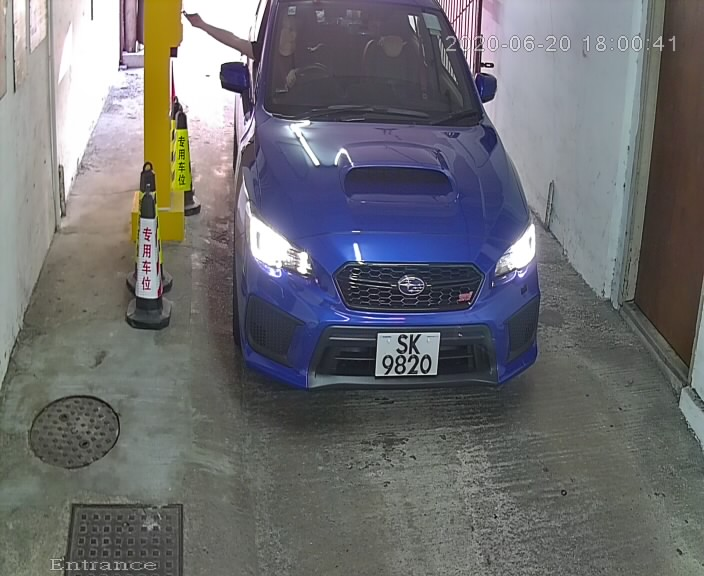privatecar: (214, 2, 558, 409)
